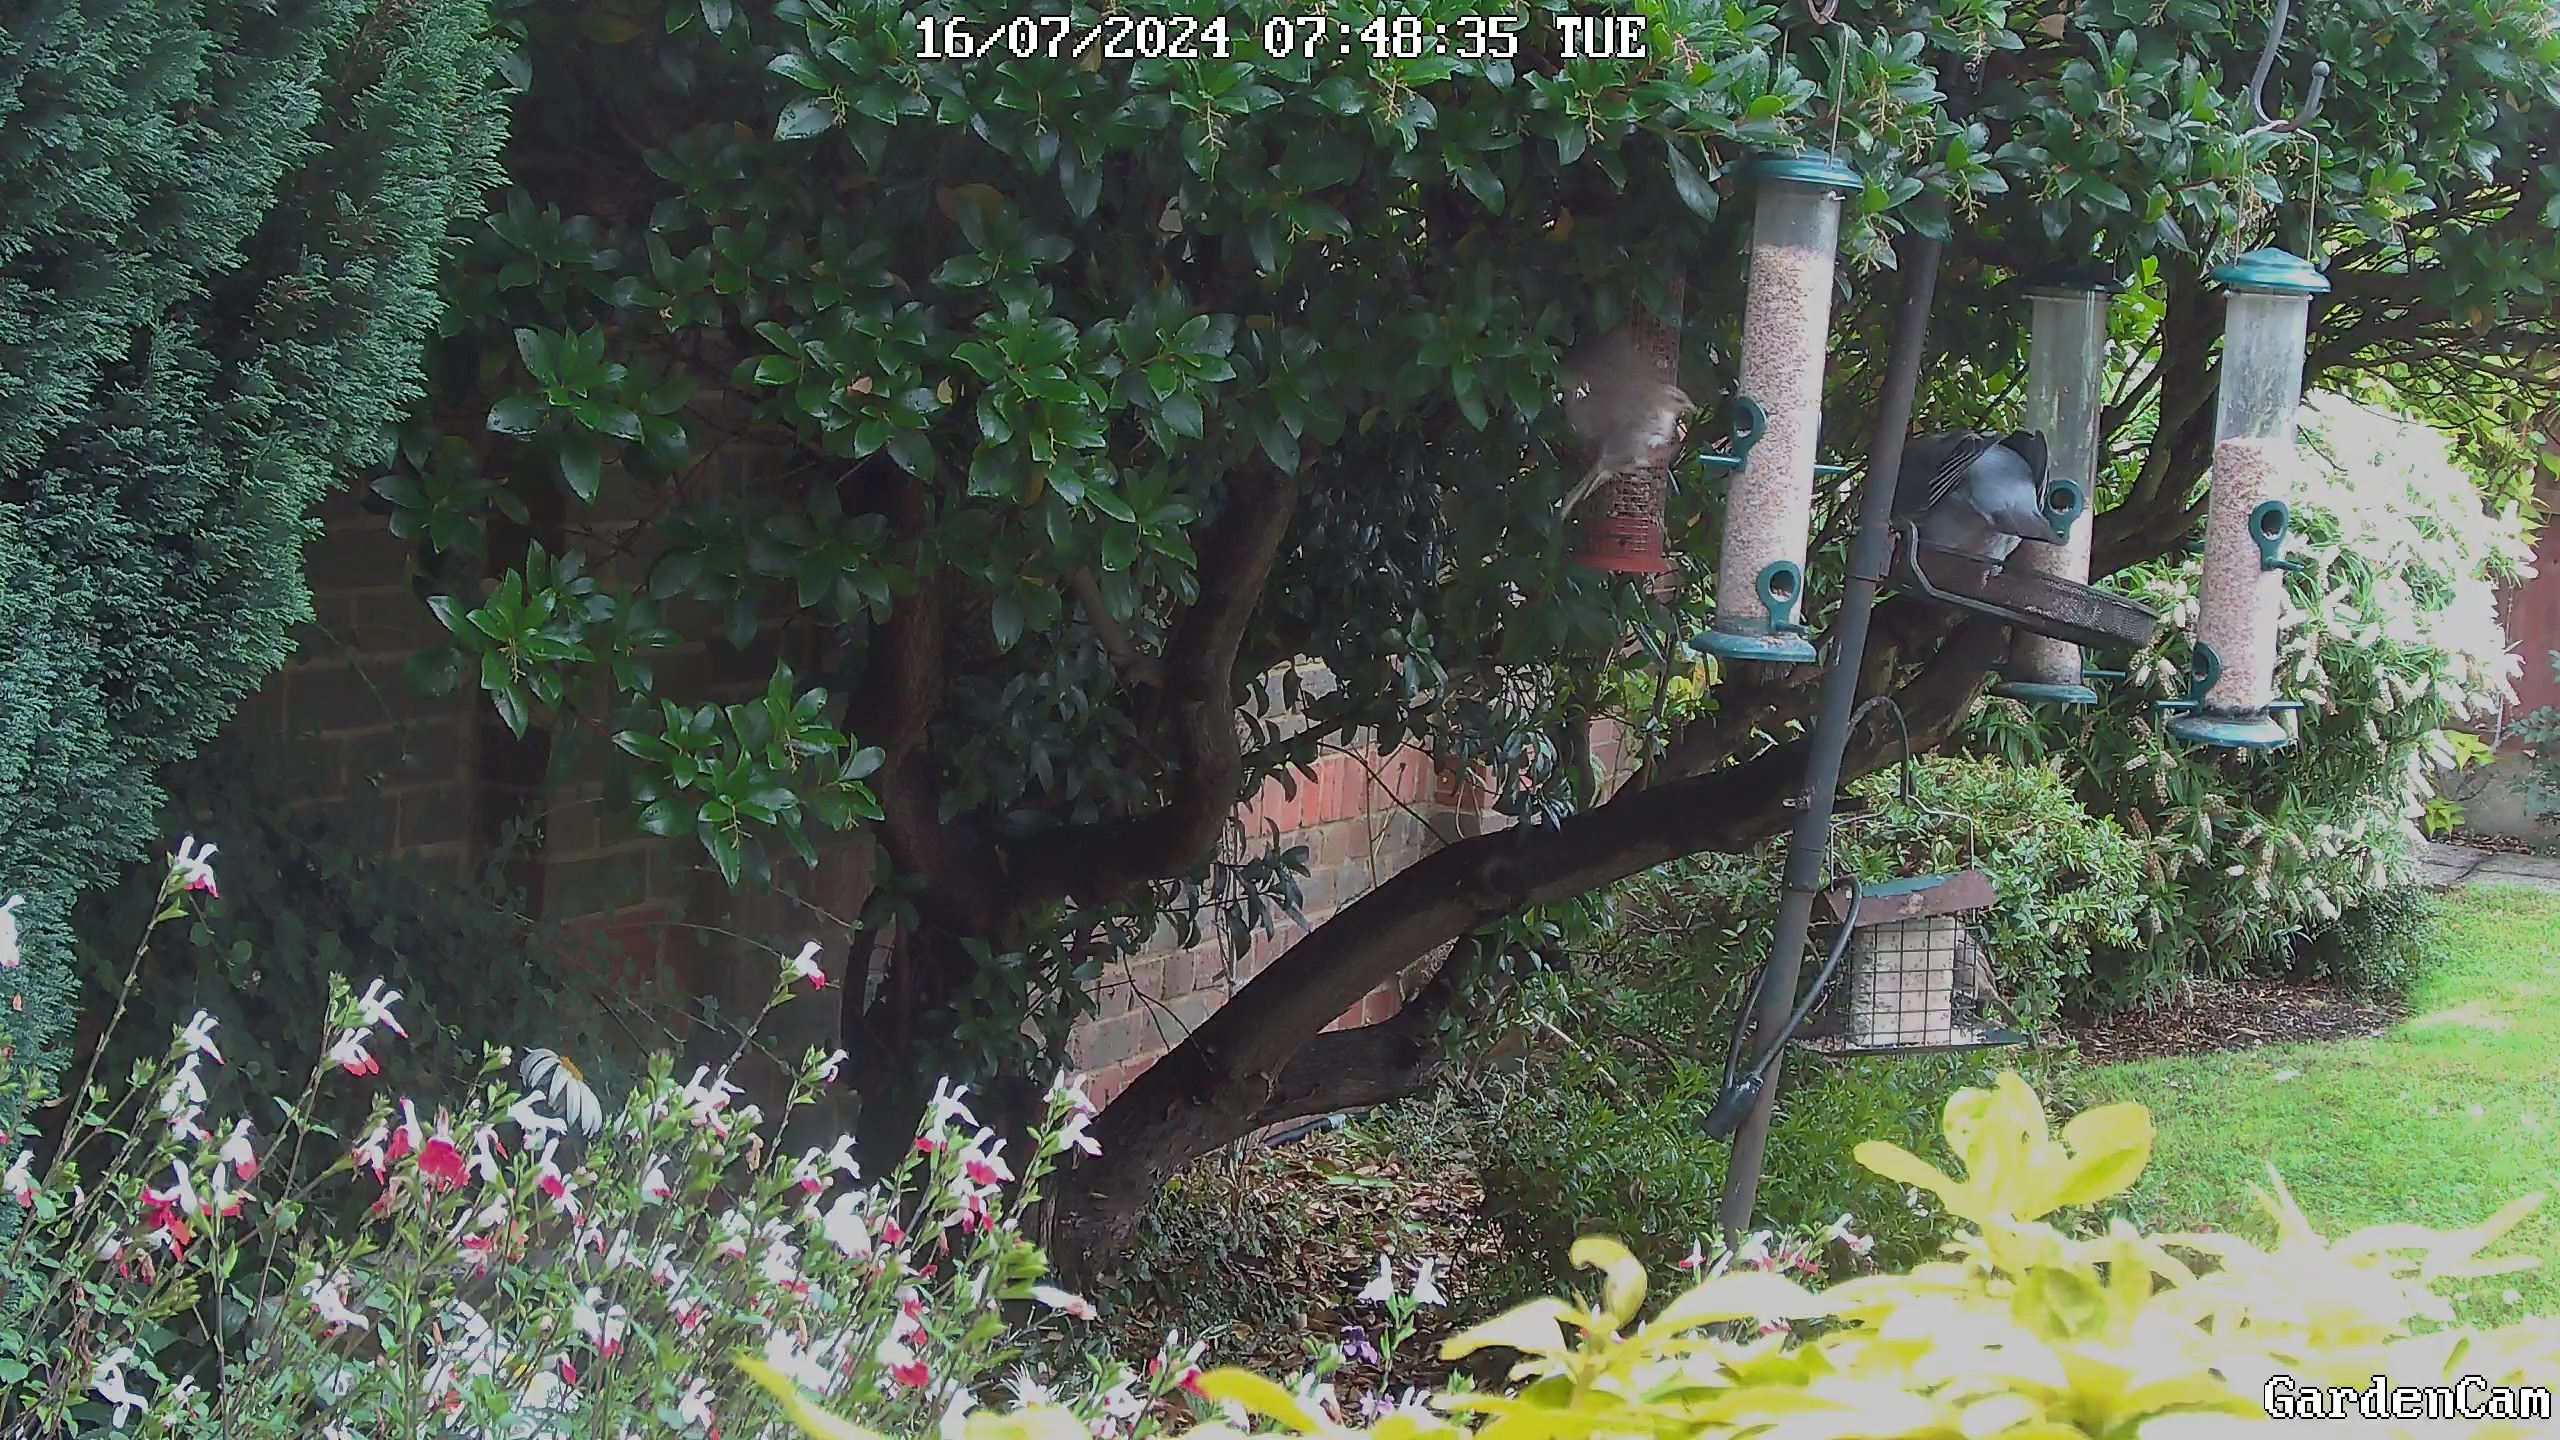House_Sparrow: (1553, 318, 1720, 526), (1936, 907, 2050, 1041)
Wood_Pigeon: (1864, 390, 2103, 628)
